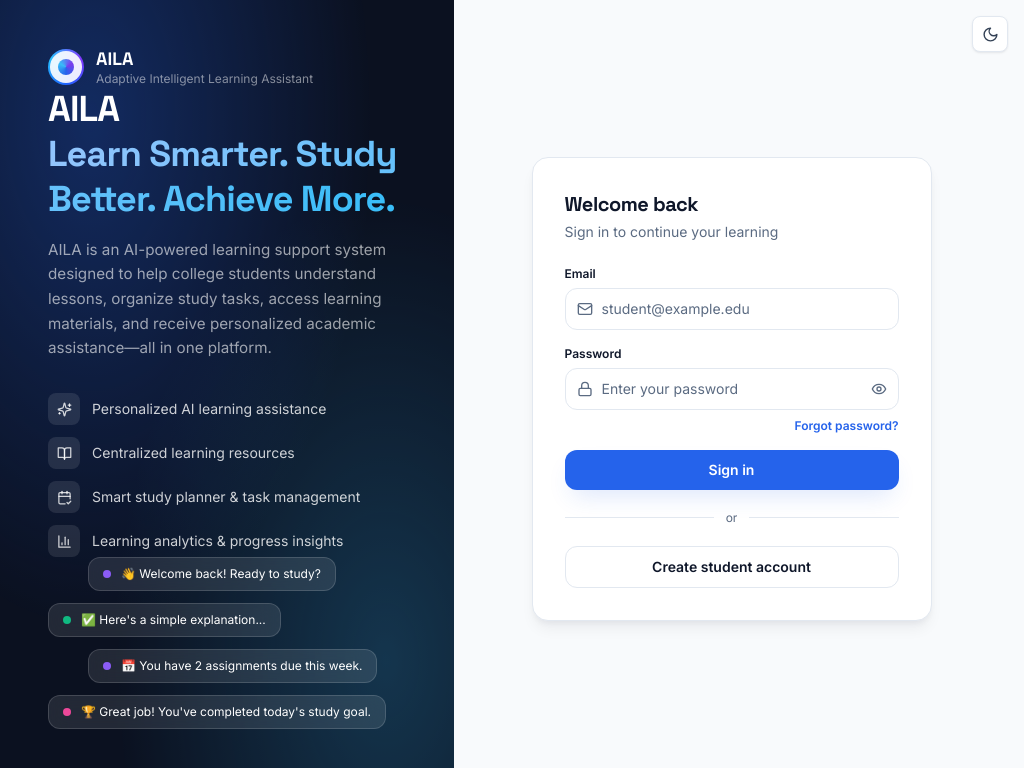
LoginPage › an unverified account shows the friendly verification-required message and a resend option
Type "ada@example.com" into the field with placeholder "student@example.edu" at (732, 308), box left=564, top=288, right=898, bottom=330
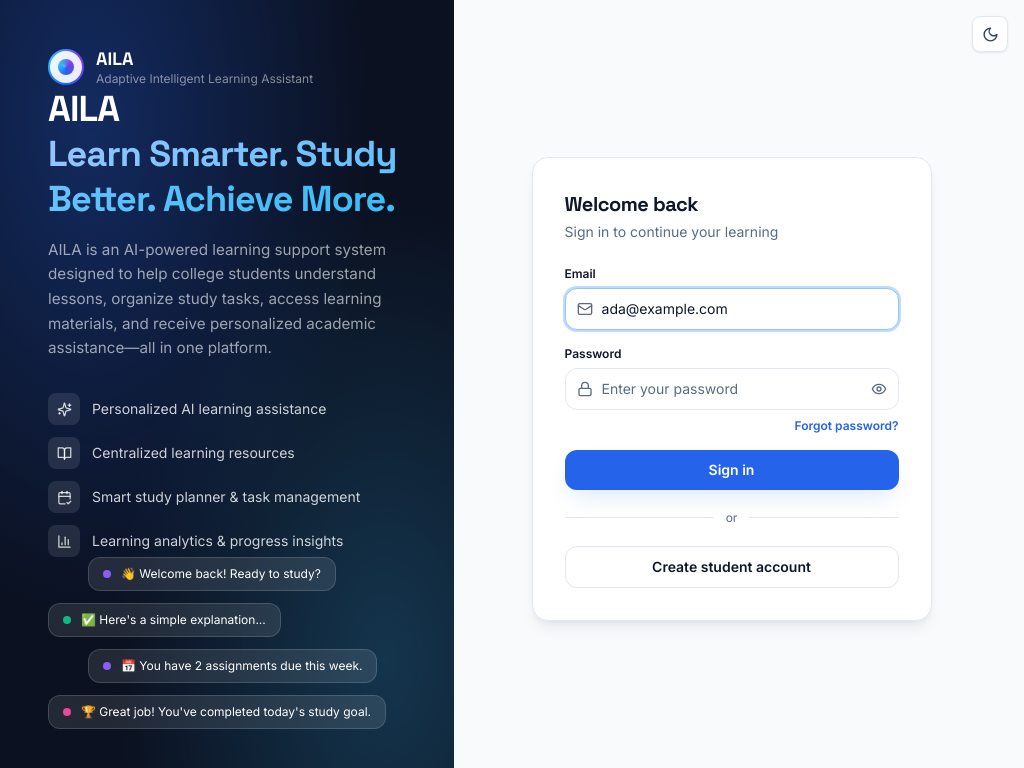
Type "Password1!" into the password field with placeholder "Enter your password" at (732, 388), box left=564, top=368, right=898, bottom=410
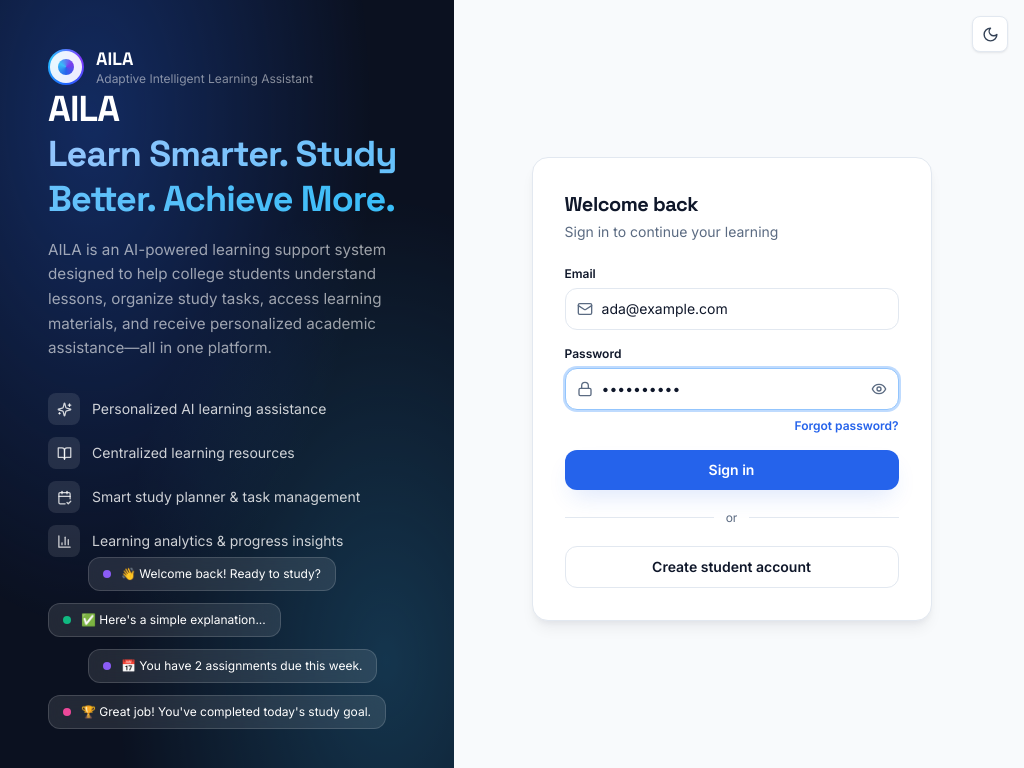
Click the button "Sign in" at (732, 470), box left=564, top=450, right=898, bottom=490
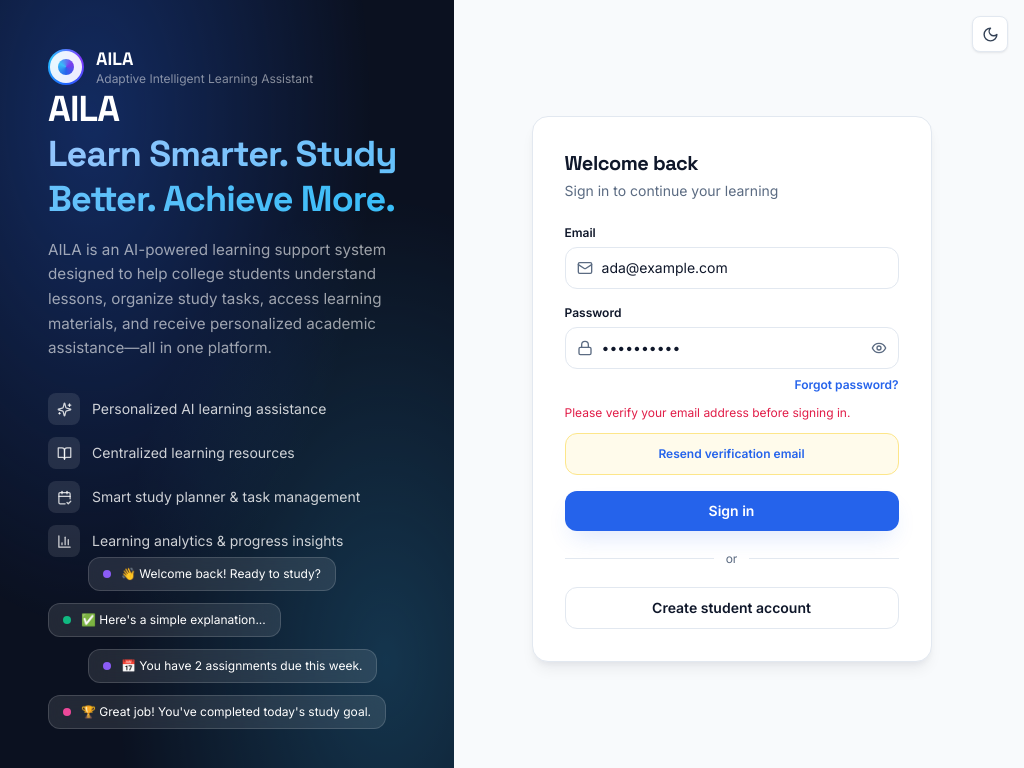
Now the text "Please verify your email address before signing in." is shown, box left=564, top=404, right=898, bottom=420
Now the button "Resend verification email" is shown, box left=578, top=446, right=886, bottom=462
